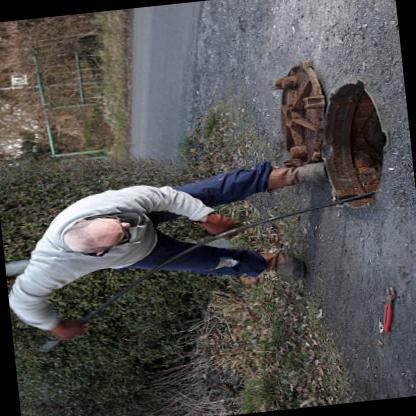manholes: (262, 46, 408, 232)
